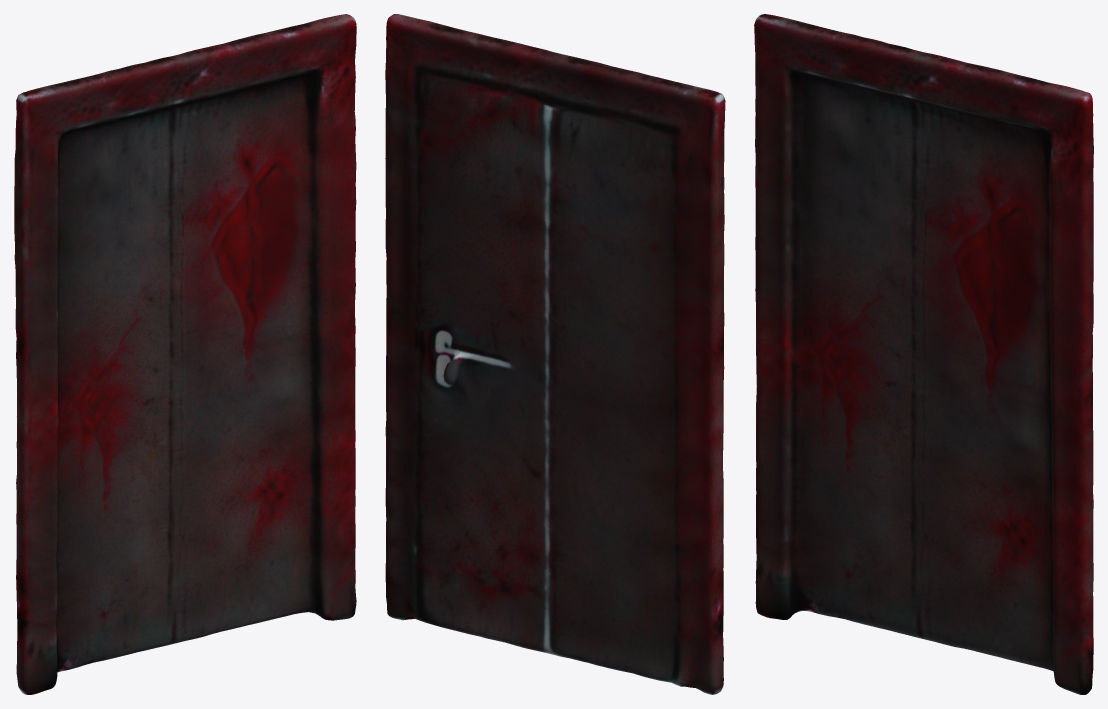
The model's file is 024bb916a84b_door_with_blood_wit.fbx.
The picture shows the model from 3 angles, left to right: view 1: azimuth 30°, elevation 25°; view 2: azimuth 150°, elevation 25°; view 3: azimuth 330°, elevation 25°; orthographic projection.
Parts seen in each view (by area): view 1: mesh; view 2: mesh; view 3: mesh.
Part boxes in pixels (x1,y1,x2,y2): mesh: (14, 14, 356, 694); mesh: (385, 14, 725, 694); mesh: (754, 14, 1093, 694).
Bounding box in the file's own units: 58.11 × 99.92 × 7.72.
